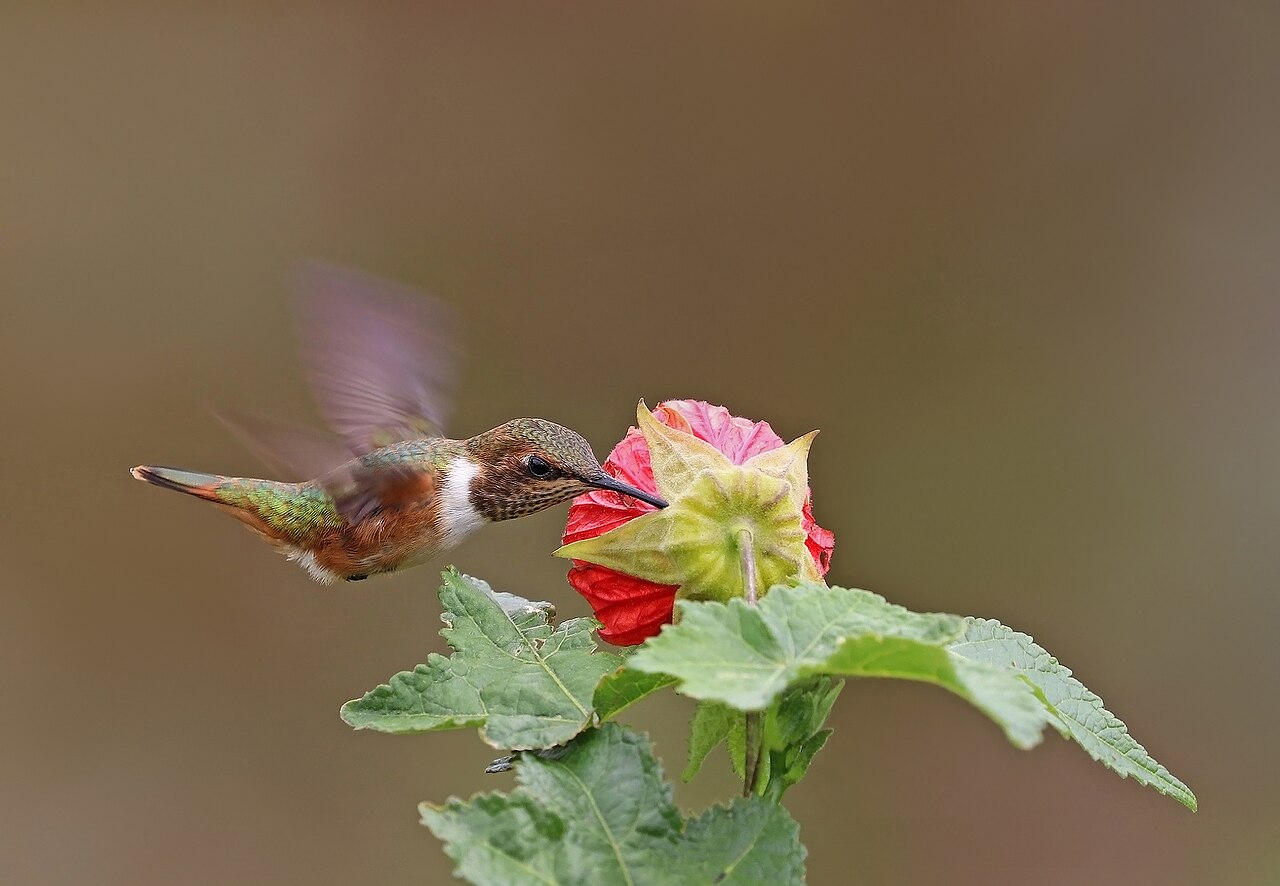bird: (128, 239, 672, 580)
